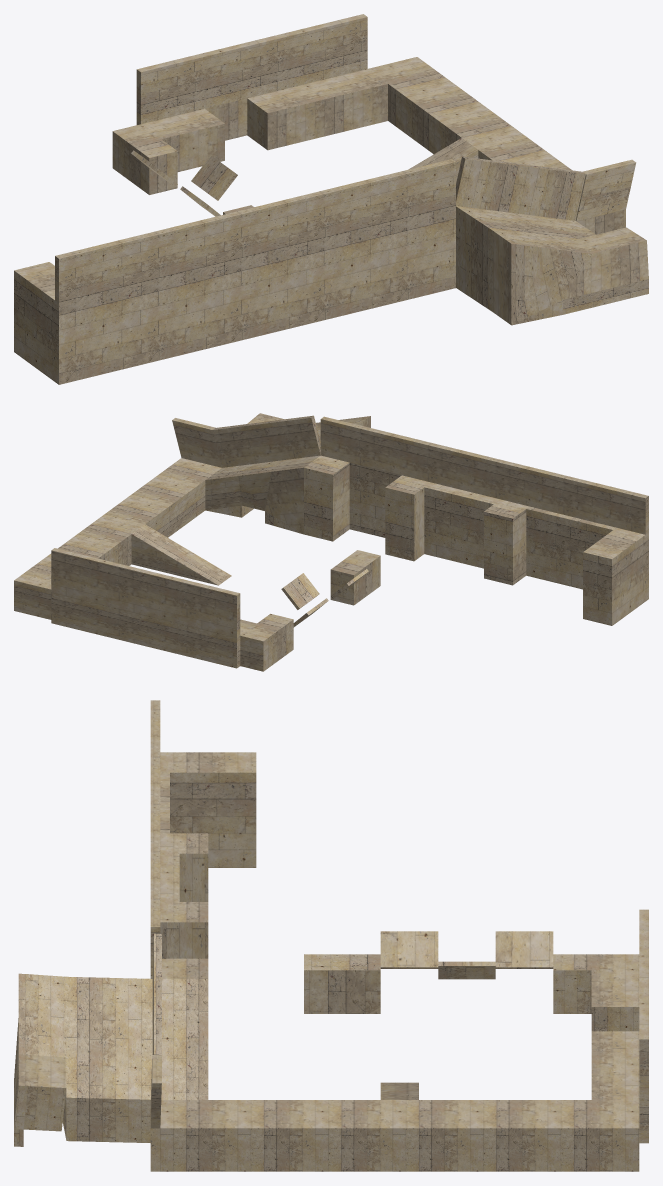
The model's file is parkcore_01.gltf.
3 views of the same model, one above another, from view 1: azimuth 30°, elevation 25°; view 2: azimuth 150°, elevation 25°; view 3: azimuth 270°, elevation 25° (orthographic). The views are drawn at different scales.
Parts seen in each view (by area): view 1: parkcore<trimesh>; view 2: parkcore<trimesh>; view 3: parkcore<trimesh>.
Part boxes in pixels (<box>): parkcore<trimesh>: <box>14,14,648,384</box>; parkcore<trimesh>: <box>14,413,648,671</box>; parkcore<trimesh>: <box>14,700,648,1171</box>.
Size of the model in its own units: 81.54 by 17 by 66.28.
1 material, 1 textured.
